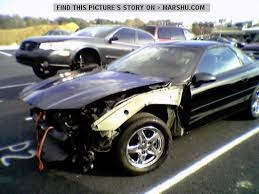Broken-glass: (81, 87, 142, 127)
Smashed: (21, 90, 179, 164)
